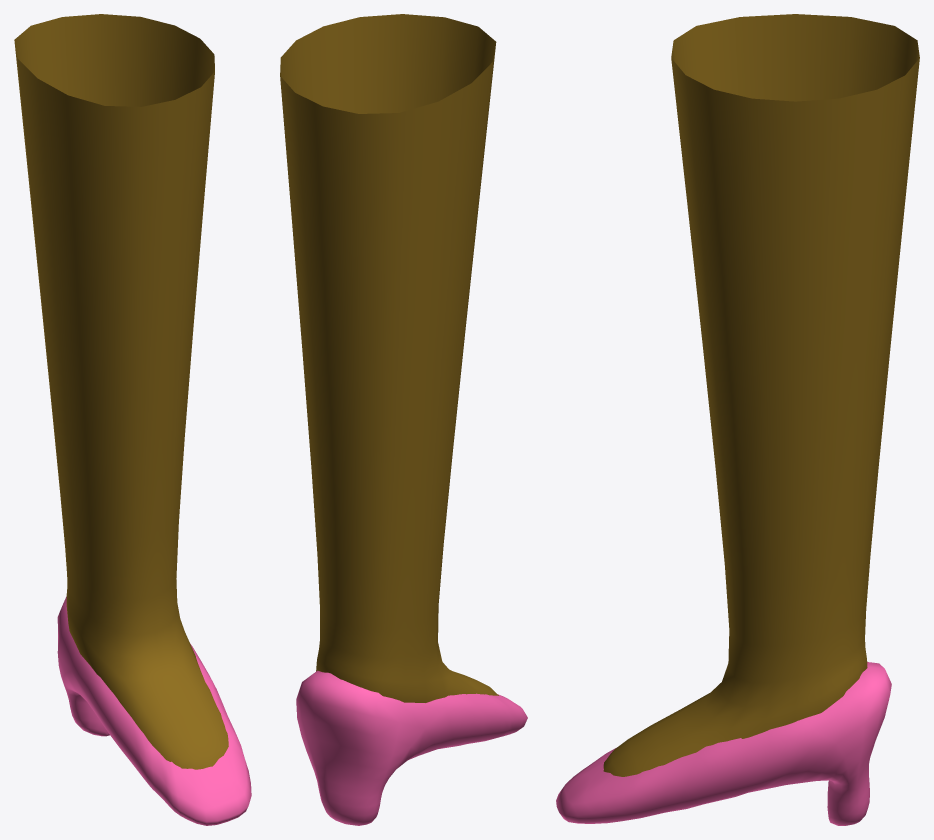
File: Foot.fbx
The picture shows the model from 3 angles, left to right: view 1: azimuth 30°, elevation 25°; view 2: azimuth 150°, elevation 25°; view 3: azimuth 270°, elevation 25°; orthographic projection. The views are drawn at different scales.
Parts seen in each view (by area): view 1: Cube, Cube.001; view 2: Cube, Cube.001; view 3: Cube, Cube.001.
Boxes of the visible parts, x1=… form: Cube: x1=14, y1=14, x2=228, y2=769; Cube.001: x1=57, y1=596, x2=251, y2=825; Cube: x1=280, y1=14, x2=498, y2=702; Cube.001: x1=296, y1=670, x2=527, y2=825; Cube: x1=603, y1=14, x2=919, y2=776; Cube.001: x1=556, y1=662, x2=891, y2=825.
Bounding box in the file's own units: 47.03 × 191 × 82.69.
